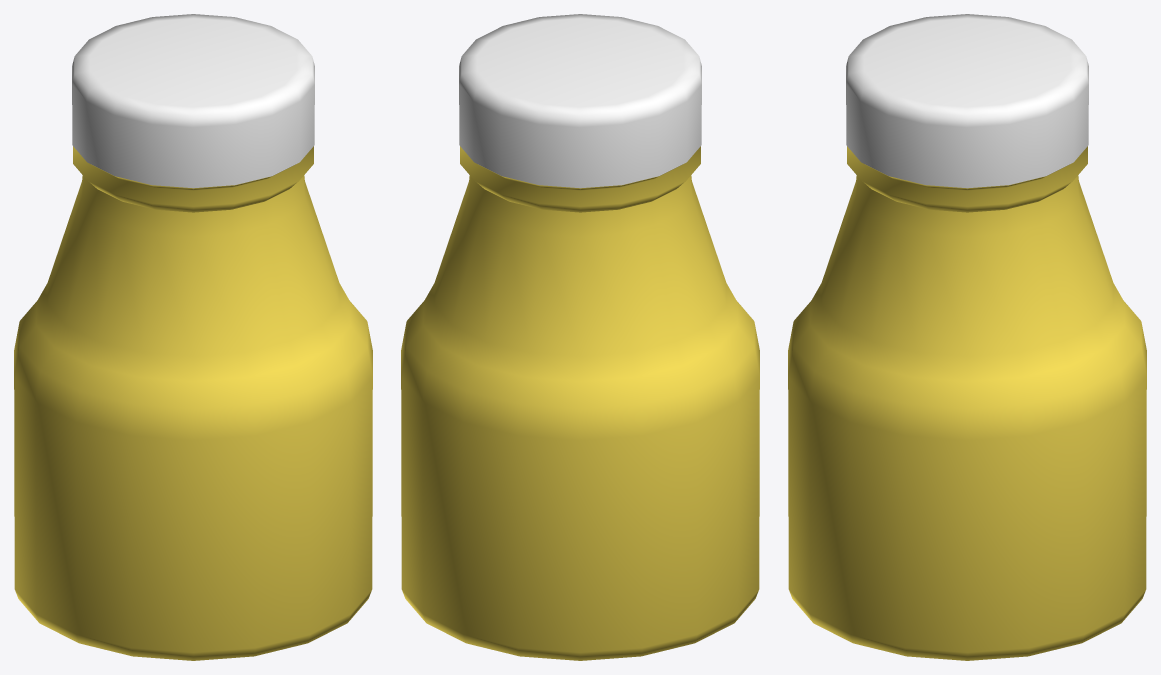
The model's file is Mustard_Bottle_LP.FBX.
3 renders of one model, left to right at view 1: azimuth 30°, elevation 25°; view 2: azimuth 150°, elevation 25°; view 3: azimuth 270°, elevation 25°, orthographic.
Visible parts, largest first — view 1: Cylinder001; view 2: Cylinder001; view 3: Cylinder001.
Part boxes in pixels (<box>): Cylinder001: <box>14,14,372,660</box>; Cylinder001: <box>401,14,759,660</box>; Cylinder001: <box>788,14,1146,660</box>.
Size of the model in its own units: 35.46 by 56.54 by 34.92.
1 material, 1 textured.
